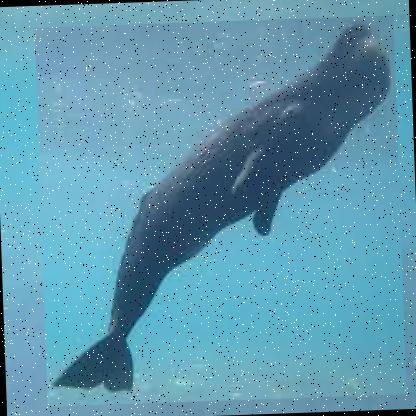sperm_whale: (34, 15, 406, 406)
